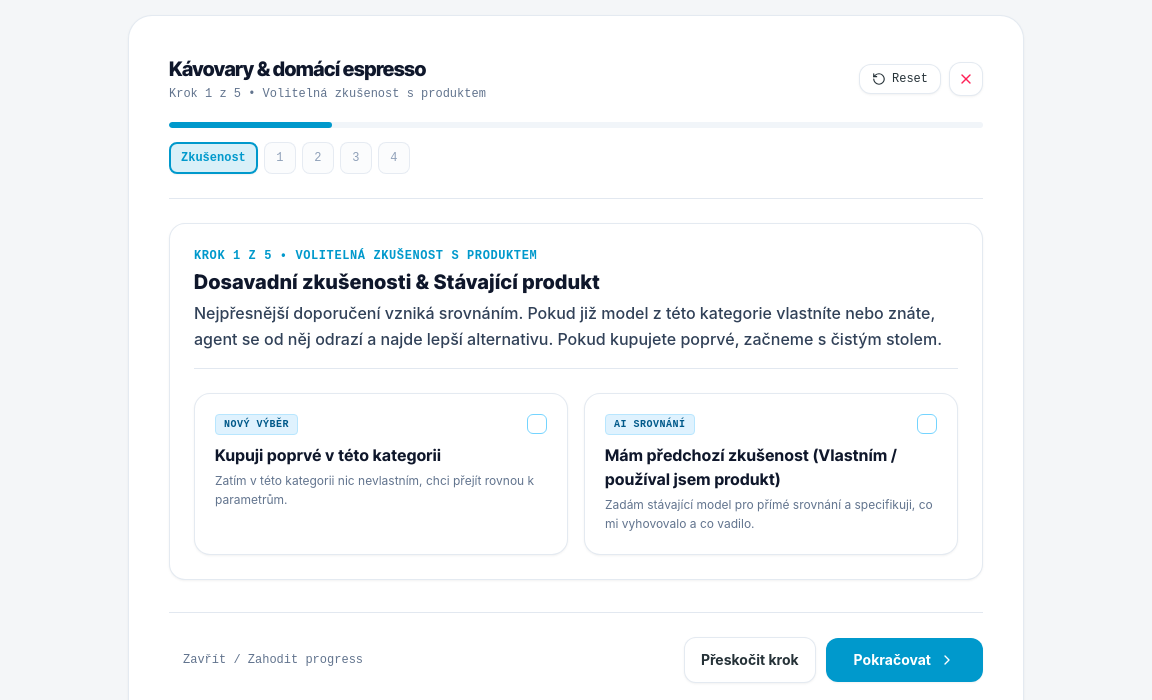
Test: DynamicAgentWizard Unit Test Suite (PRD v1) › 13. Krok s možnostmi správně odděluje volbu 'Nemám vyhraněnou preferenci' od navigačního tlačítka 'Přeskočit krok'
Click the button "Pokračovat" at x=904, y=660, box left=826, top=638, right=983, bottom=682
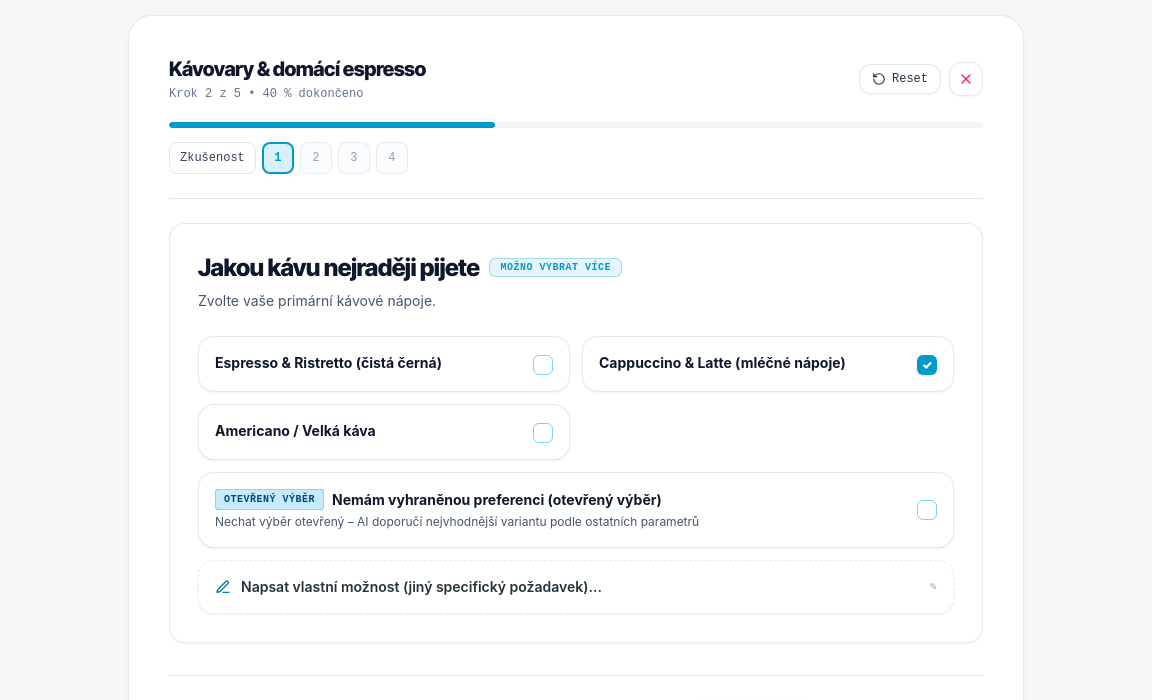
Expected: the button "Nemám vyhraněnou preferenci" is shown
Expected: the button "Nemám vyhraněnou preferenci" shows "Nechat výběr otevřený"
Note: Kliknutí na volbu bez preference
Click the button "Nemám vyhraněnou preferenci" at x=576, y=510, box left=198, top=472, right=954, bottom=548
(page scrolled)
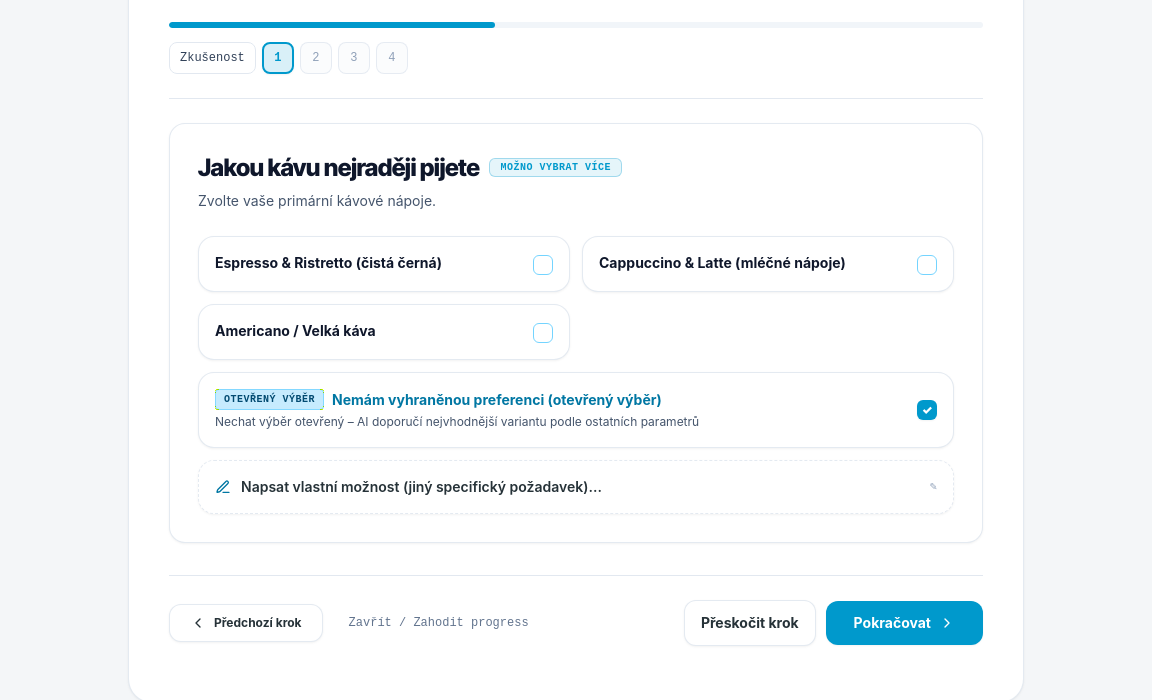
Expected: the button "Napsat vlastní možnost (jiný specifický požadavek)... ✎" is shown, left=198, top=460, right=954, bottom=514
Expected: the button "Nemám vyhraněnou preferenci" shows "✓", left=198, top=372, right=954, bottom=448
Note: Kliknutí na "Přeskočit krok" posune na další krok (Krok 2)
Click the button "Přeskočit krok" at x=750, y=623, box left=684, top=600, right=816, bottom=646
(page scrolled)
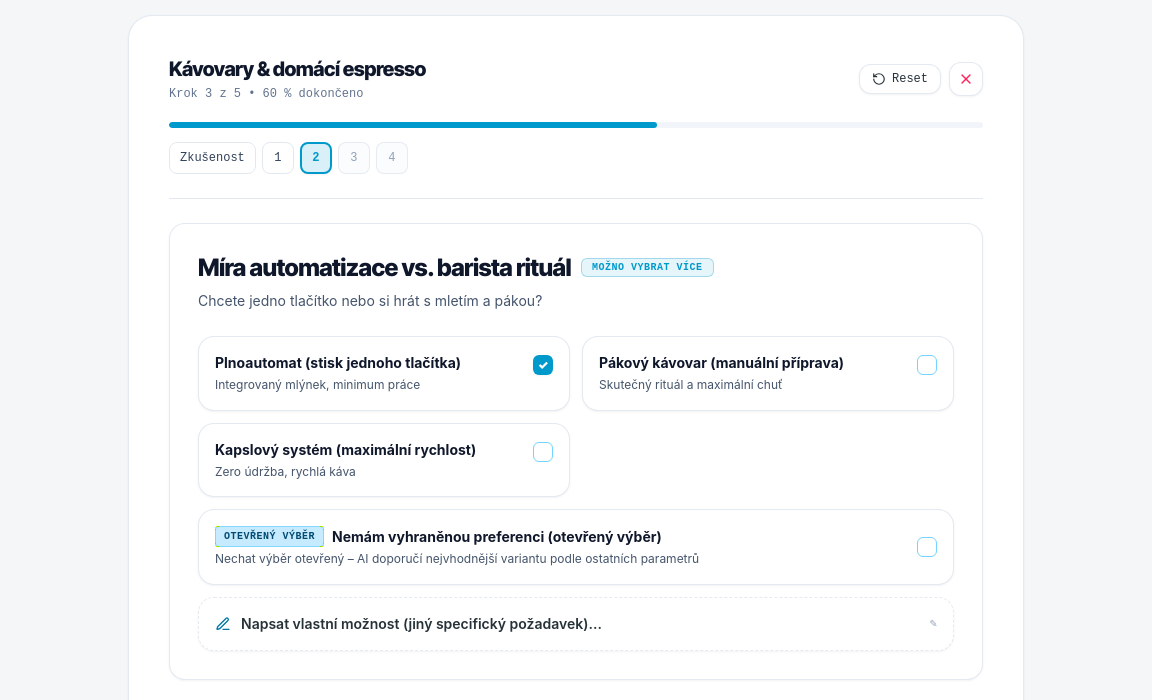
Expected: the text "Krok 3 z 5 • 60 % dokončeno" is shown, left=169, top=86, right=363, bottom=100
